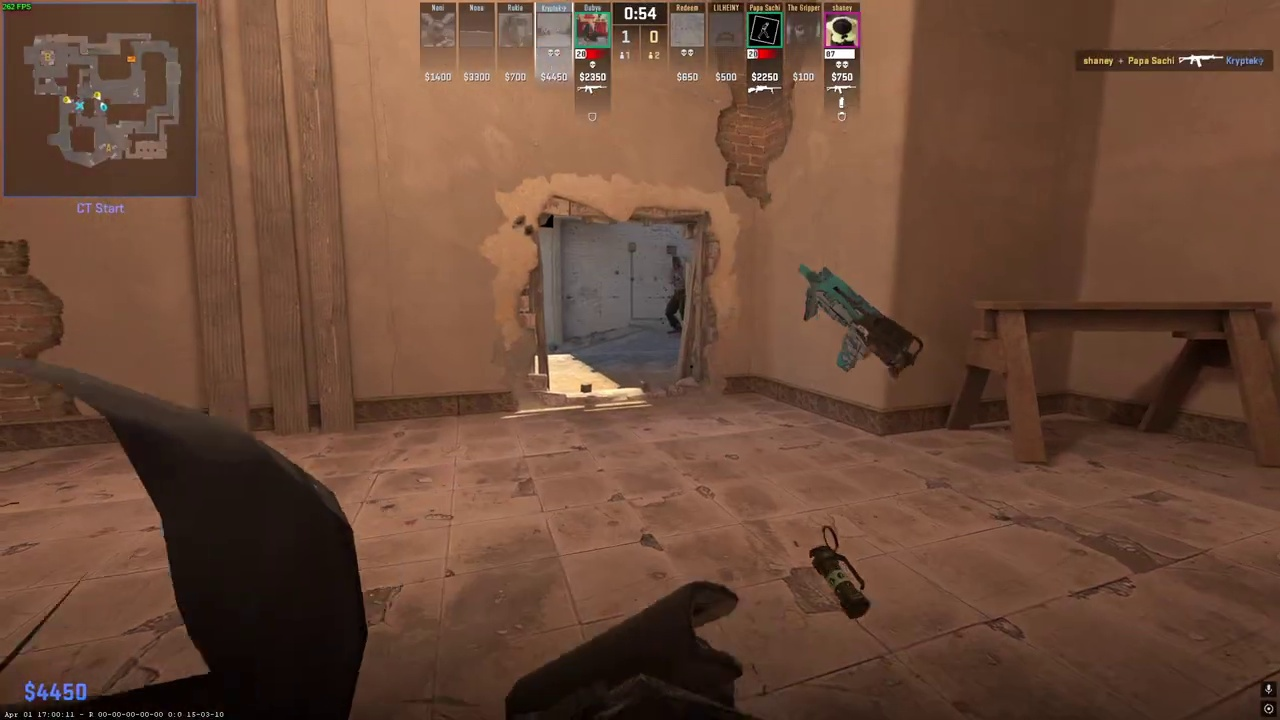Terrorist: (663, 254, 688, 335)
